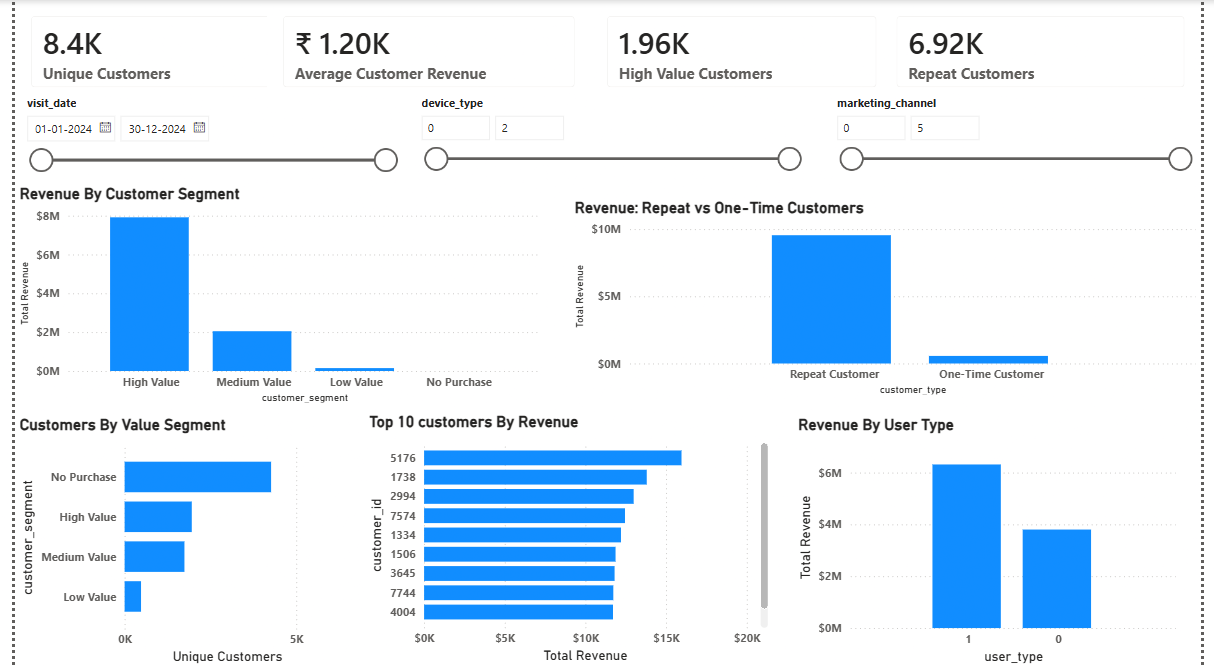

What the dashboard file says about the page in this screenshot:
{"tool":"powerbi","page":{"name":"Customer Analytics","canvas":[1280,720],"ordinal":1},"visuals":[{"type":"cardVisual","fields":{"Data":["Ecommerce.Unique Customers"]},"box":[0,0,304.3,111.5],"z":0},{"type":"cardVisual","fields":{"Data":["Ecommerce.Average Customer Revenue"]},"box":[272.1,0,349.6,111.5],"z":1000},{"type":"cardVisual","fields":{"Data":["Ecommerce.High Value Customers"]},"box":[621.7,0,325,111.5],"z":2000},{"type":"cardVisual","fields":{"Data":["Ecommerce.Repeat Customers"]},"box":[933.6,0,345.8,111.5],"z":3000},{"type":"clusteredColumnChart","title":"Revenue By Customer Segment","fields":{"Category":["Ecommerce.customer_segment"],"Y":["Ecommerce.Total Revenue"]},"box":[0,198.4,572.6,240],"z":4000},{"type":"clusteredColumnChart","title":"Revenue: Repeat vs One-Time Customers","fields":{"Category":["Ecommerce.customer_type"],"Y":["Ecommerce.Total Revenue"]},"box":[599.1,213.5,680.3,217.3],"z":5000},{"type":"barChart","title":"Customers By Value Segment","fields":{"Category":["Ecommerce.customer_segment"],"Y":["Ecommerce.Unique Customers"]},"box":[0,447.9,353.4,272.1],"z":6000},{"type":"clusteredBarChart","title":"Top 10 customers By Revenue","fields":{"Category":["Ecommerce.customer_id"],"Y":["Ecommerce.Total Revenue"]},"box":[378,446,440.3,274],"z":7000},{"type":"clusteredColumnChart","title":"Revenue By User Type","fields":{"Category":["Ecommerce.user_type"],"Y":["Ecommerce.Total Revenue"]},"box":[841,447.9,417.6,272.1],"z":8000},{"type":"slicer","fields":{"Values":["Ecommerce.device_type"]},"box":[425.2,96.4,430.9,117.2],"z":9000},{"type":"slicer","fields":{"Values":["Ecommerce.visit_date"]},"box":[0,96.4,421.4,102],"z":10000},{"type":"slicer","fields":{"Values":["Ecommerce.marketing_channel"]},"box":[875,96.4,404.4,117.2],"z":11000}]}

Visuals, with their boxes in screenshot pixels (x1, y1, x2, y2), scaled from the page's 1280x720 canvas onto the 1214x666 screenshot:
cardVisual - Ecommerce.Unique Customers: [x1=0, y1=0, x2=289, y2=103]
cardVisual - Ecommerce.Average Customer Revenue: [x1=258, y1=0, x2=590, y2=103]
cardVisual - Ecommerce.High Value Customers: [x1=590, y1=0, x2=898, y2=103]
cardVisual - Ecommerce.Repeat Customers: [x1=885, y1=0, x2=1213, y2=103]
"Revenue By Customer Segment" clusteredColumnChart: [x1=0, y1=184, x2=543, y2=406]
"Revenue: Repeat vs One-Time Customers" clusteredColumnChart: [x1=568, y1=197, x2=1213, y2=398]
"Customers By Value Segment" barChart: [x1=0, y1=414, x2=335, y2=665]
"Top 10 customers By Revenue" clusteredBarChart: [x1=359, y1=413, x2=776, y2=665]
"Revenue By User Type" clusteredColumnChart: [x1=798, y1=414, x2=1194, y2=665]
slicer - Ecommerce.device_type: [x1=403, y1=89, x2=812, y2=198]
slicer - Ecommerce.visit_date: [x1=0, y1=89, x2=400, y2=184]
slicer - Ecommerce.marketing_channel: [x1=830, y1=89, x2=1213, y2=198]
